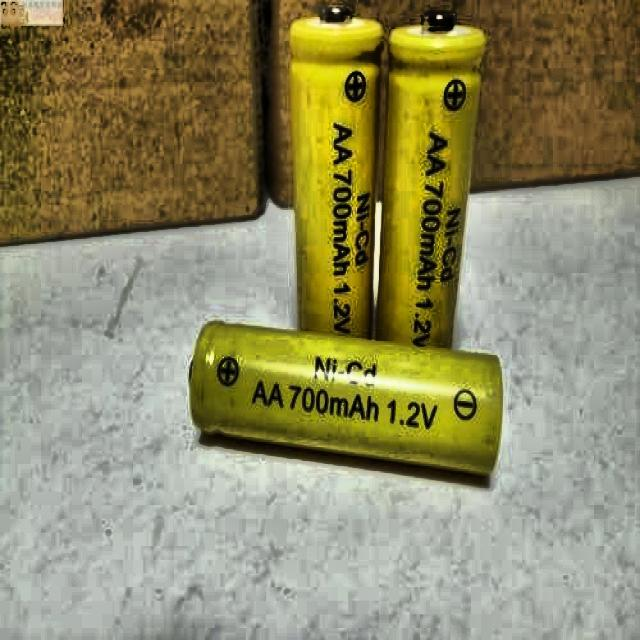Non-Valuable Waste - Batteries: (191, 322, 502, 474), (378, 15, 485, 347), (290, 8, 382, 338)
